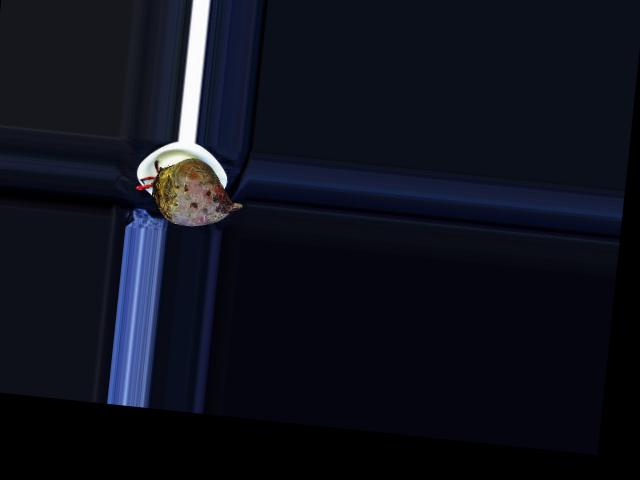beet: (132, 152, 245, 230)
